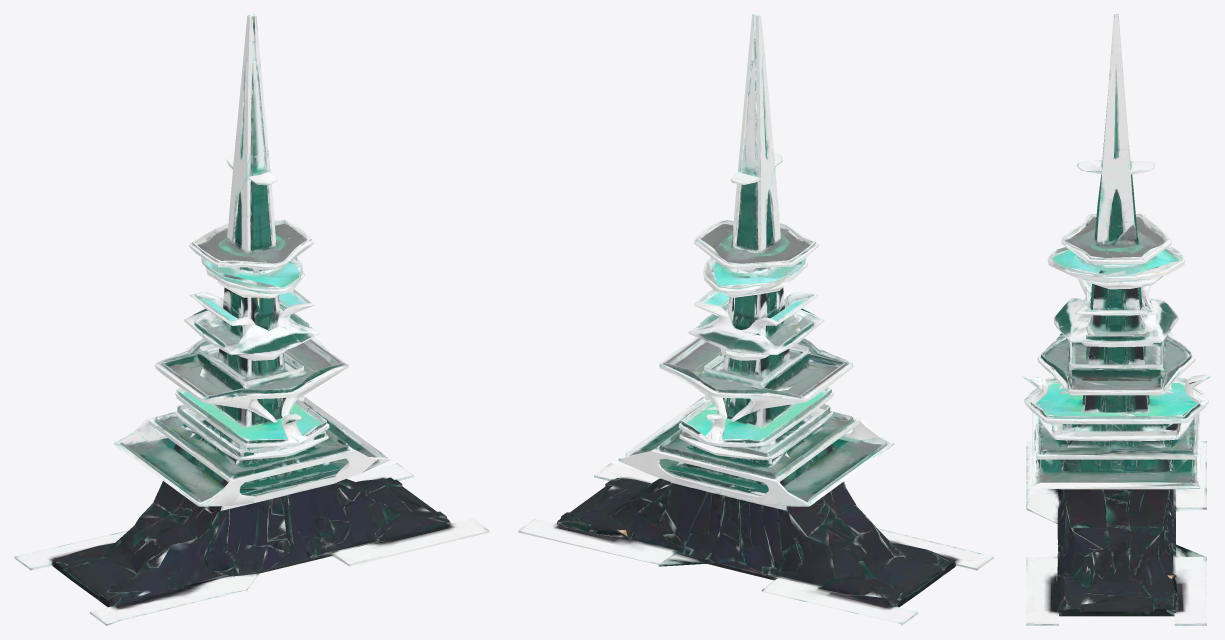
Rendered from bld-sea-terrace-spire-lod1.glb.
3 renders of one model, left to right at view 1: azimuth 30°, elevation 25°; view 2: azimuth 150°, elevation 25°; view 3: azimuth 270°, elevation 25°, orthographic. The views are drawn at different scales.
Visible parts, largest first — view 1: Mesh_0; view 2: Mesh_0; view 3: Mesh_0.
Boxes of the visible parts, <box> form: Mesh_0: <box>14,14,489,625</box>; Mesh_0: <box>518,14,993,625</box>; Mesh_0: <box>1022,14,1210,625</box>.
Bounding box in the file's own units: 1.43 × 1.9 × 0.624.
Materials: 1 (1 with a texture image).
